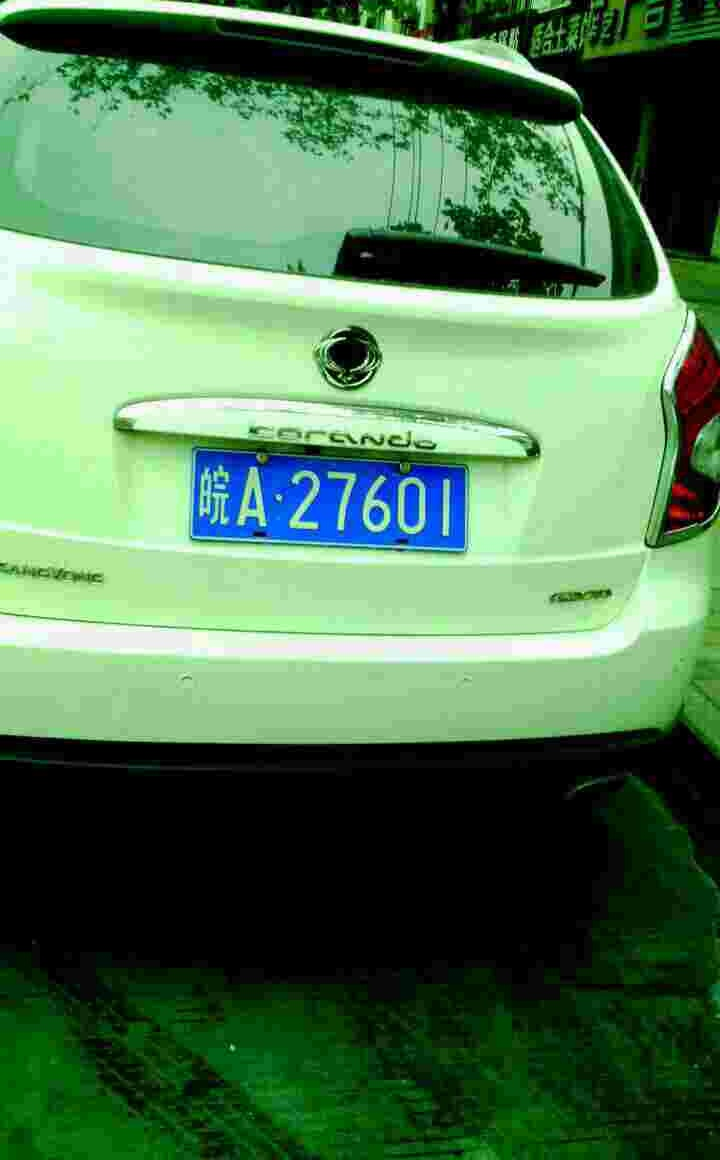car: (186, 441, 467, 547)
